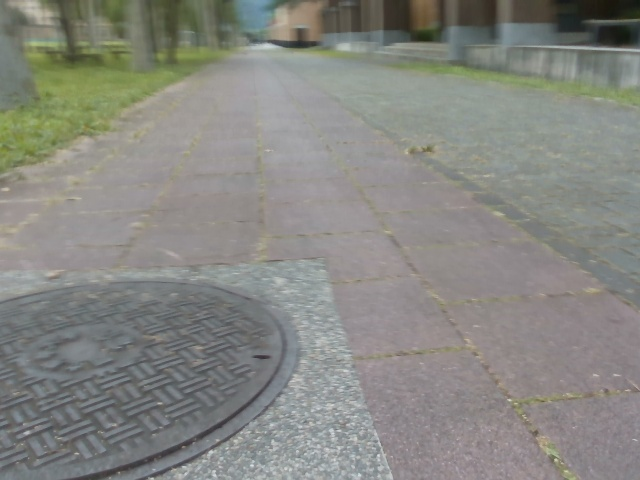grass: (0, 42, 639, 183), (0, 0, 239, 61)
road: (0, 53, 639, 479)
